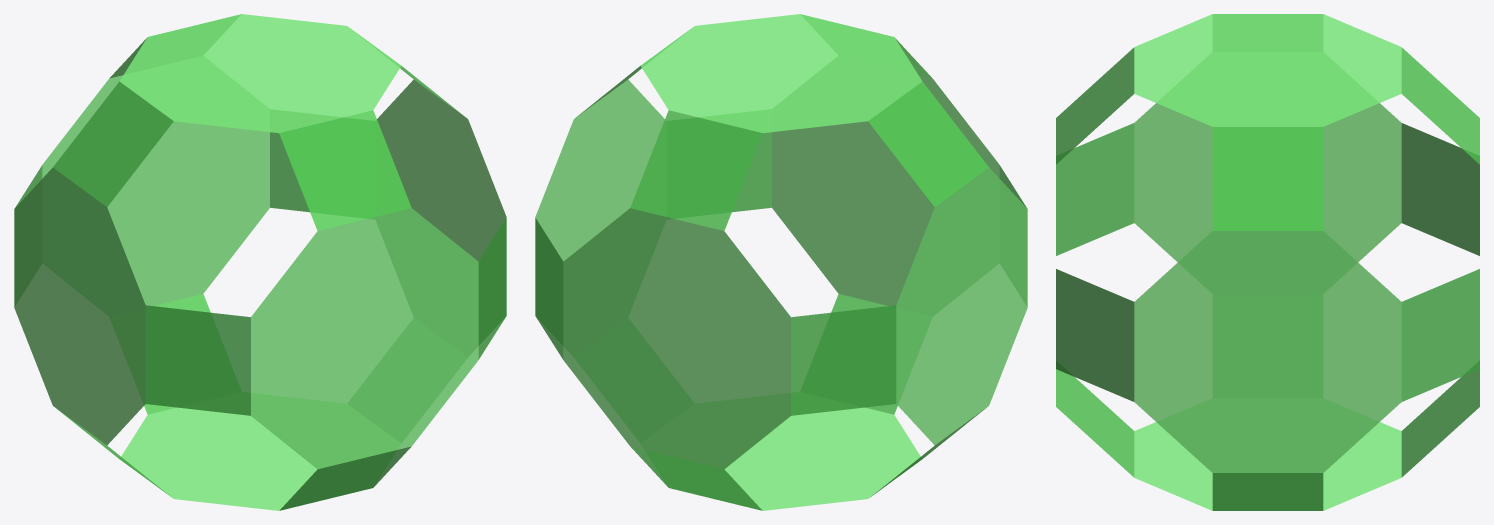
File: TruncatedCuboctahedronA1.obj
The picture shows the model from 3 angles, left to right: view 1: azimuth 30°, elevation 25°; view 2: azimuth 150°, elevation 25°; view 3: azimuth 270°, elevation 25°; orthographic projection.
Size of the model in its own units: 3.83 by 3.83 by 3.83.
